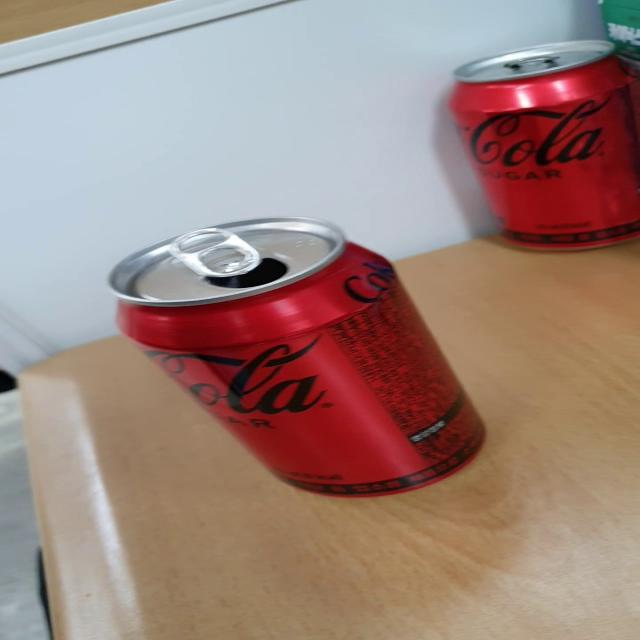coca-cola: (104, 213, 498, 502), (440, 38, 640, 254)
